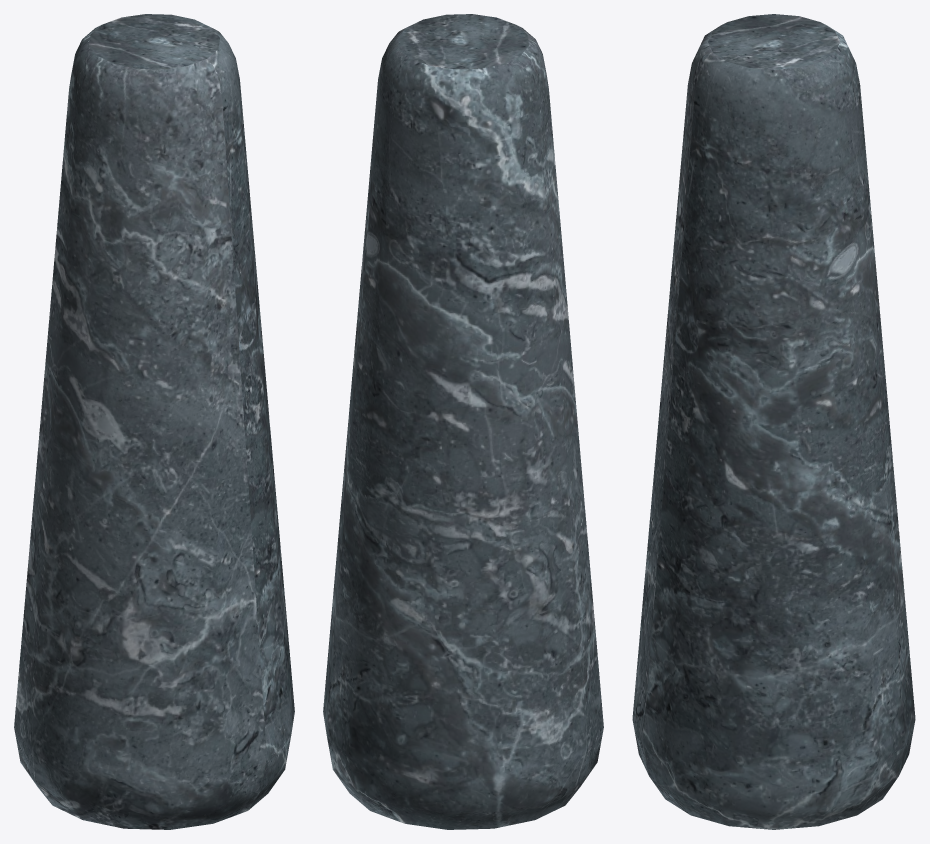
File: pestle.fbx
The picture shows the model from 3 angles, left to right: view 1: azimuth 30°, elevation 25°; view 2: azimuth 150°, elevation 25°; view 3: azimuth 270°, elevation 25°; orthographic projection.
Parts seen in each view (by area): view 1: pestle; view 2: pestle; view 3: pestle.
Boxes of the visible parts, x1,y1,x2,y2 form: pestle: (14, 14, 294, 829); pestle: (323, 14, 603, 829); pestle: (632, 14, 915, 829).
Size of the model in its own units: 123 by 358 by 123.
